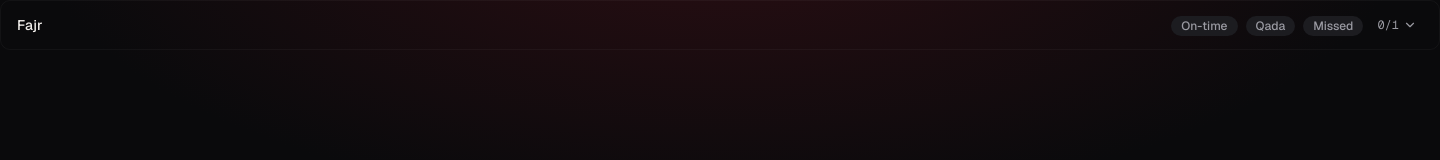
PrayerRow › a 'None' option at the bottom of the expanded sunnah list collapses it
Click the button named "sunnah for fajr": (1397, 25) [1371, 13, 1423, 37]
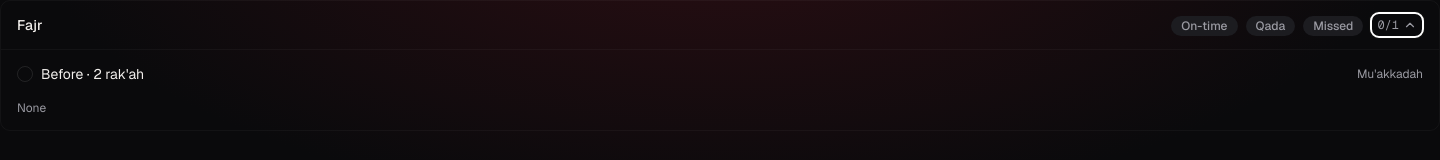
Now the button "None" is shown
Click the button "None": (32, 108) [9, 94, 1431, 122]
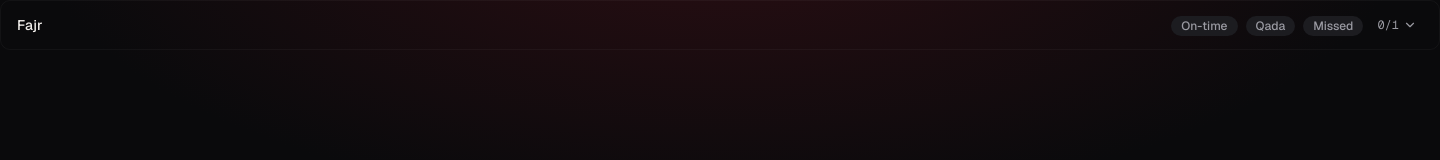
Now the button named "sunnah for fajr" is collapsed, box [1371, 13, 1423, 37]
Now the button "None" is gone
